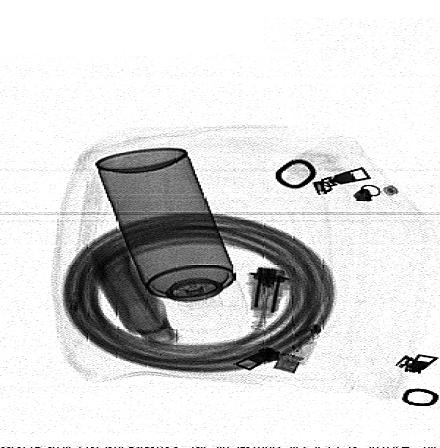Sprayer: (95, 147, 250, 338)
